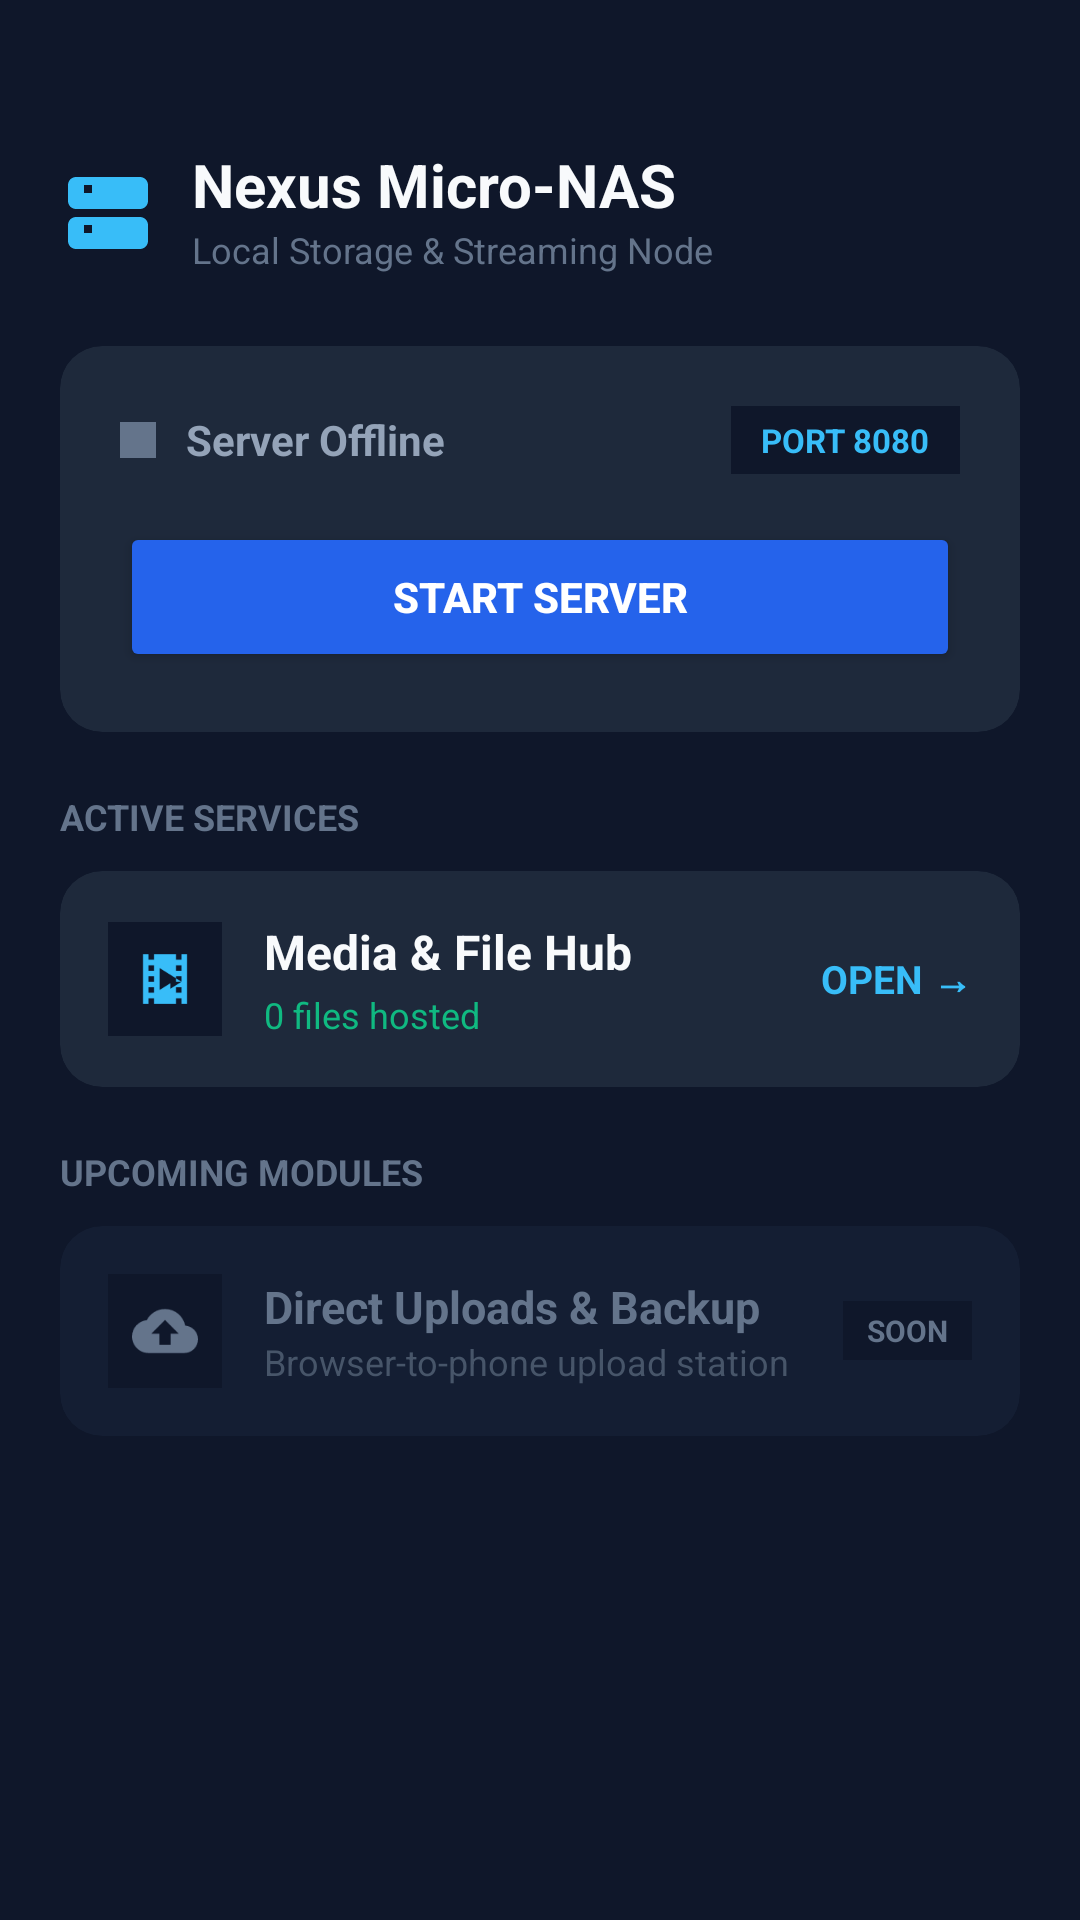

Locate icon controls on the screen. Image size 1080×1920, boxes as region(x1, y1, x2, y2).
movie: region(143, 954, 187, 1004)
server: region(68, 177, 148, 249)
